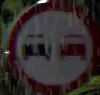No overtake: (7, 0, 99, 91)
